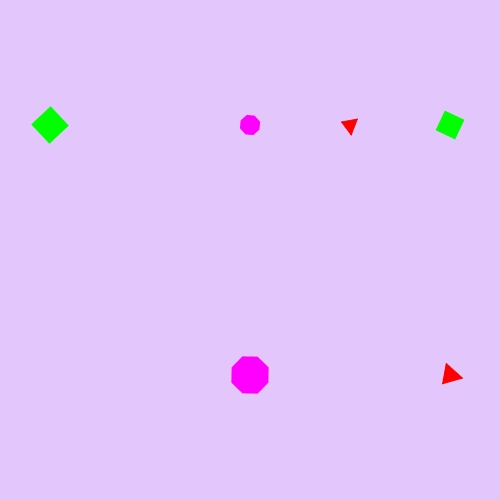octagon: (226, 351, 274, 399), (235, 110, 265, 140)
quadrilateral: (28, 103, 73, 148), (431, 106, 469, 144)
triangle: (436, 361, 464, 390), (338, 112, 363, 138)
